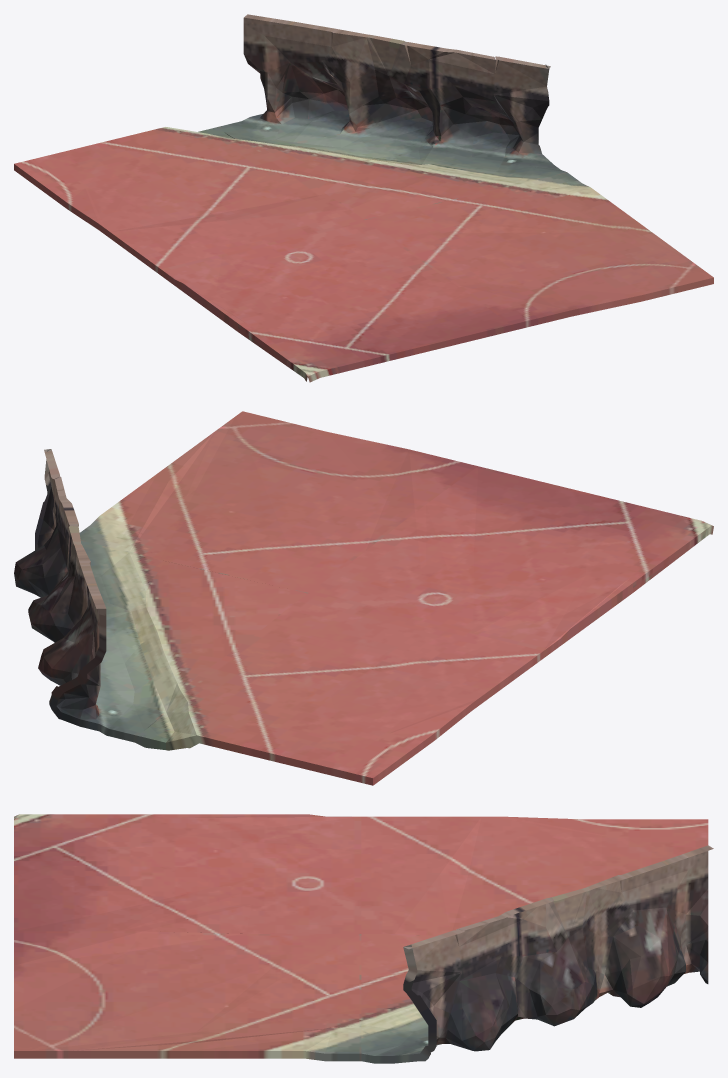
The model's file is BuildingMesh-00265.gltf.
3 views of the same model, one above another, from view 1: azimuth 30°, elevation 25°; view 2: azimuth 150°, elevation 25°; view 3: azimuth 270°, elevation 25° (orthographic). The views are drawn at different scales.
Visible parts, largest first — view 1: BuildingMesh-00265; view 2: BuildingMesh-00265; view 3: BuildingMesh-00265.
Boxes of the visible parts, x1,y1,x2,y2 form: BuildingMesh-00265: [14, 14, 713, 382]; BuildingMesh-00265: [14, 411, 713, 785]; BuildingMesh-00265: [14, 814, 713, 1063].
Size of the model in its own units: 1.57 by 0.4157 by 1.96.
Materials: 1 (1 with a texture image).
